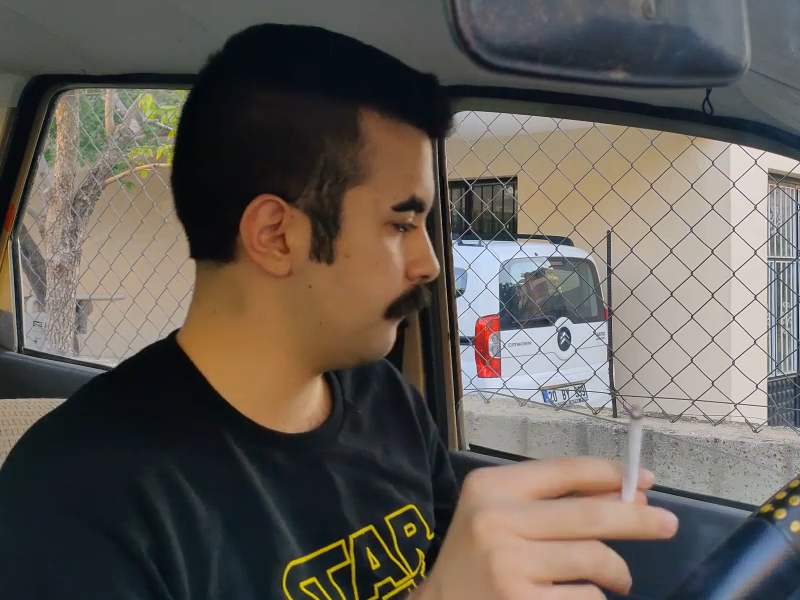sigara: (610, 398, 650, 510)
